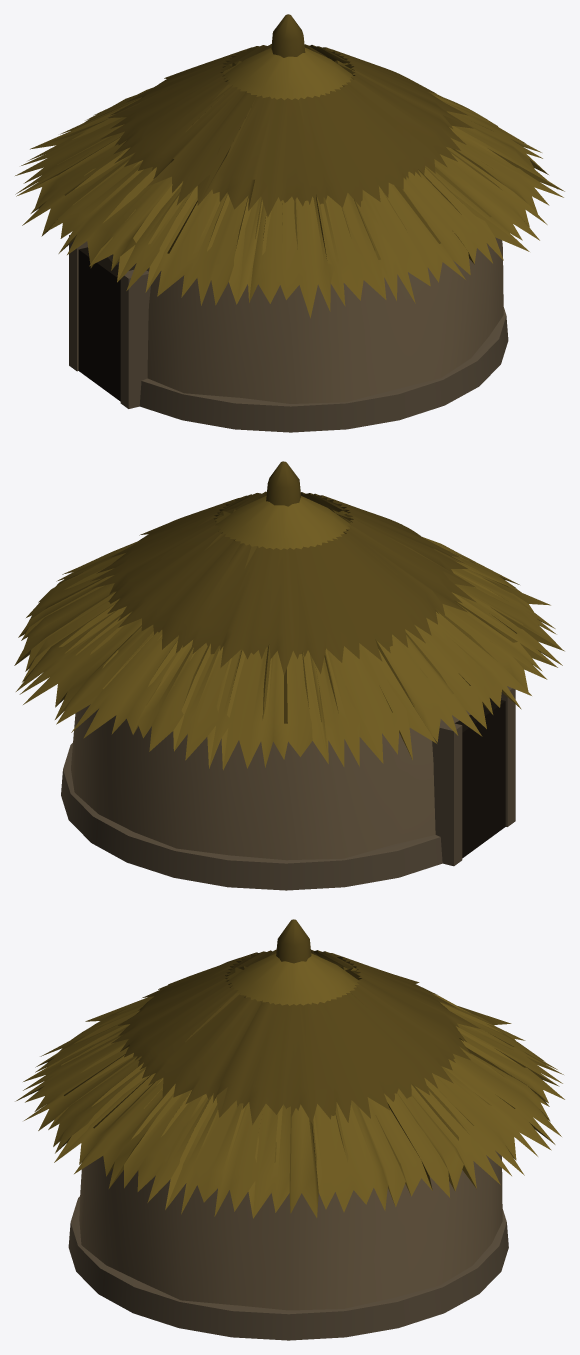
Rendered from ZonHut11.glb.
3 renders of one model, top to bottom at view 1: azimuth 30°, elevation 25°; view 2: azimuth 150°, elevation 25°; view 3: azimuth 270°, elevation 25°, orthographic. The views are drawn at different scales.
Visible parts, largest first — view 1: hut_wall; view 2: hut_wall; view 3: hut_wall.
Part boxes in pixels (<box>): hut_wall: <box>15,14,564,432</box>; hut_wall: <box>14,461,564,890</box>; hut_wall: <box>15,919,564,1340</box>.
Size of the model in its own units: 5.42 by 3.6 by 5.49.
